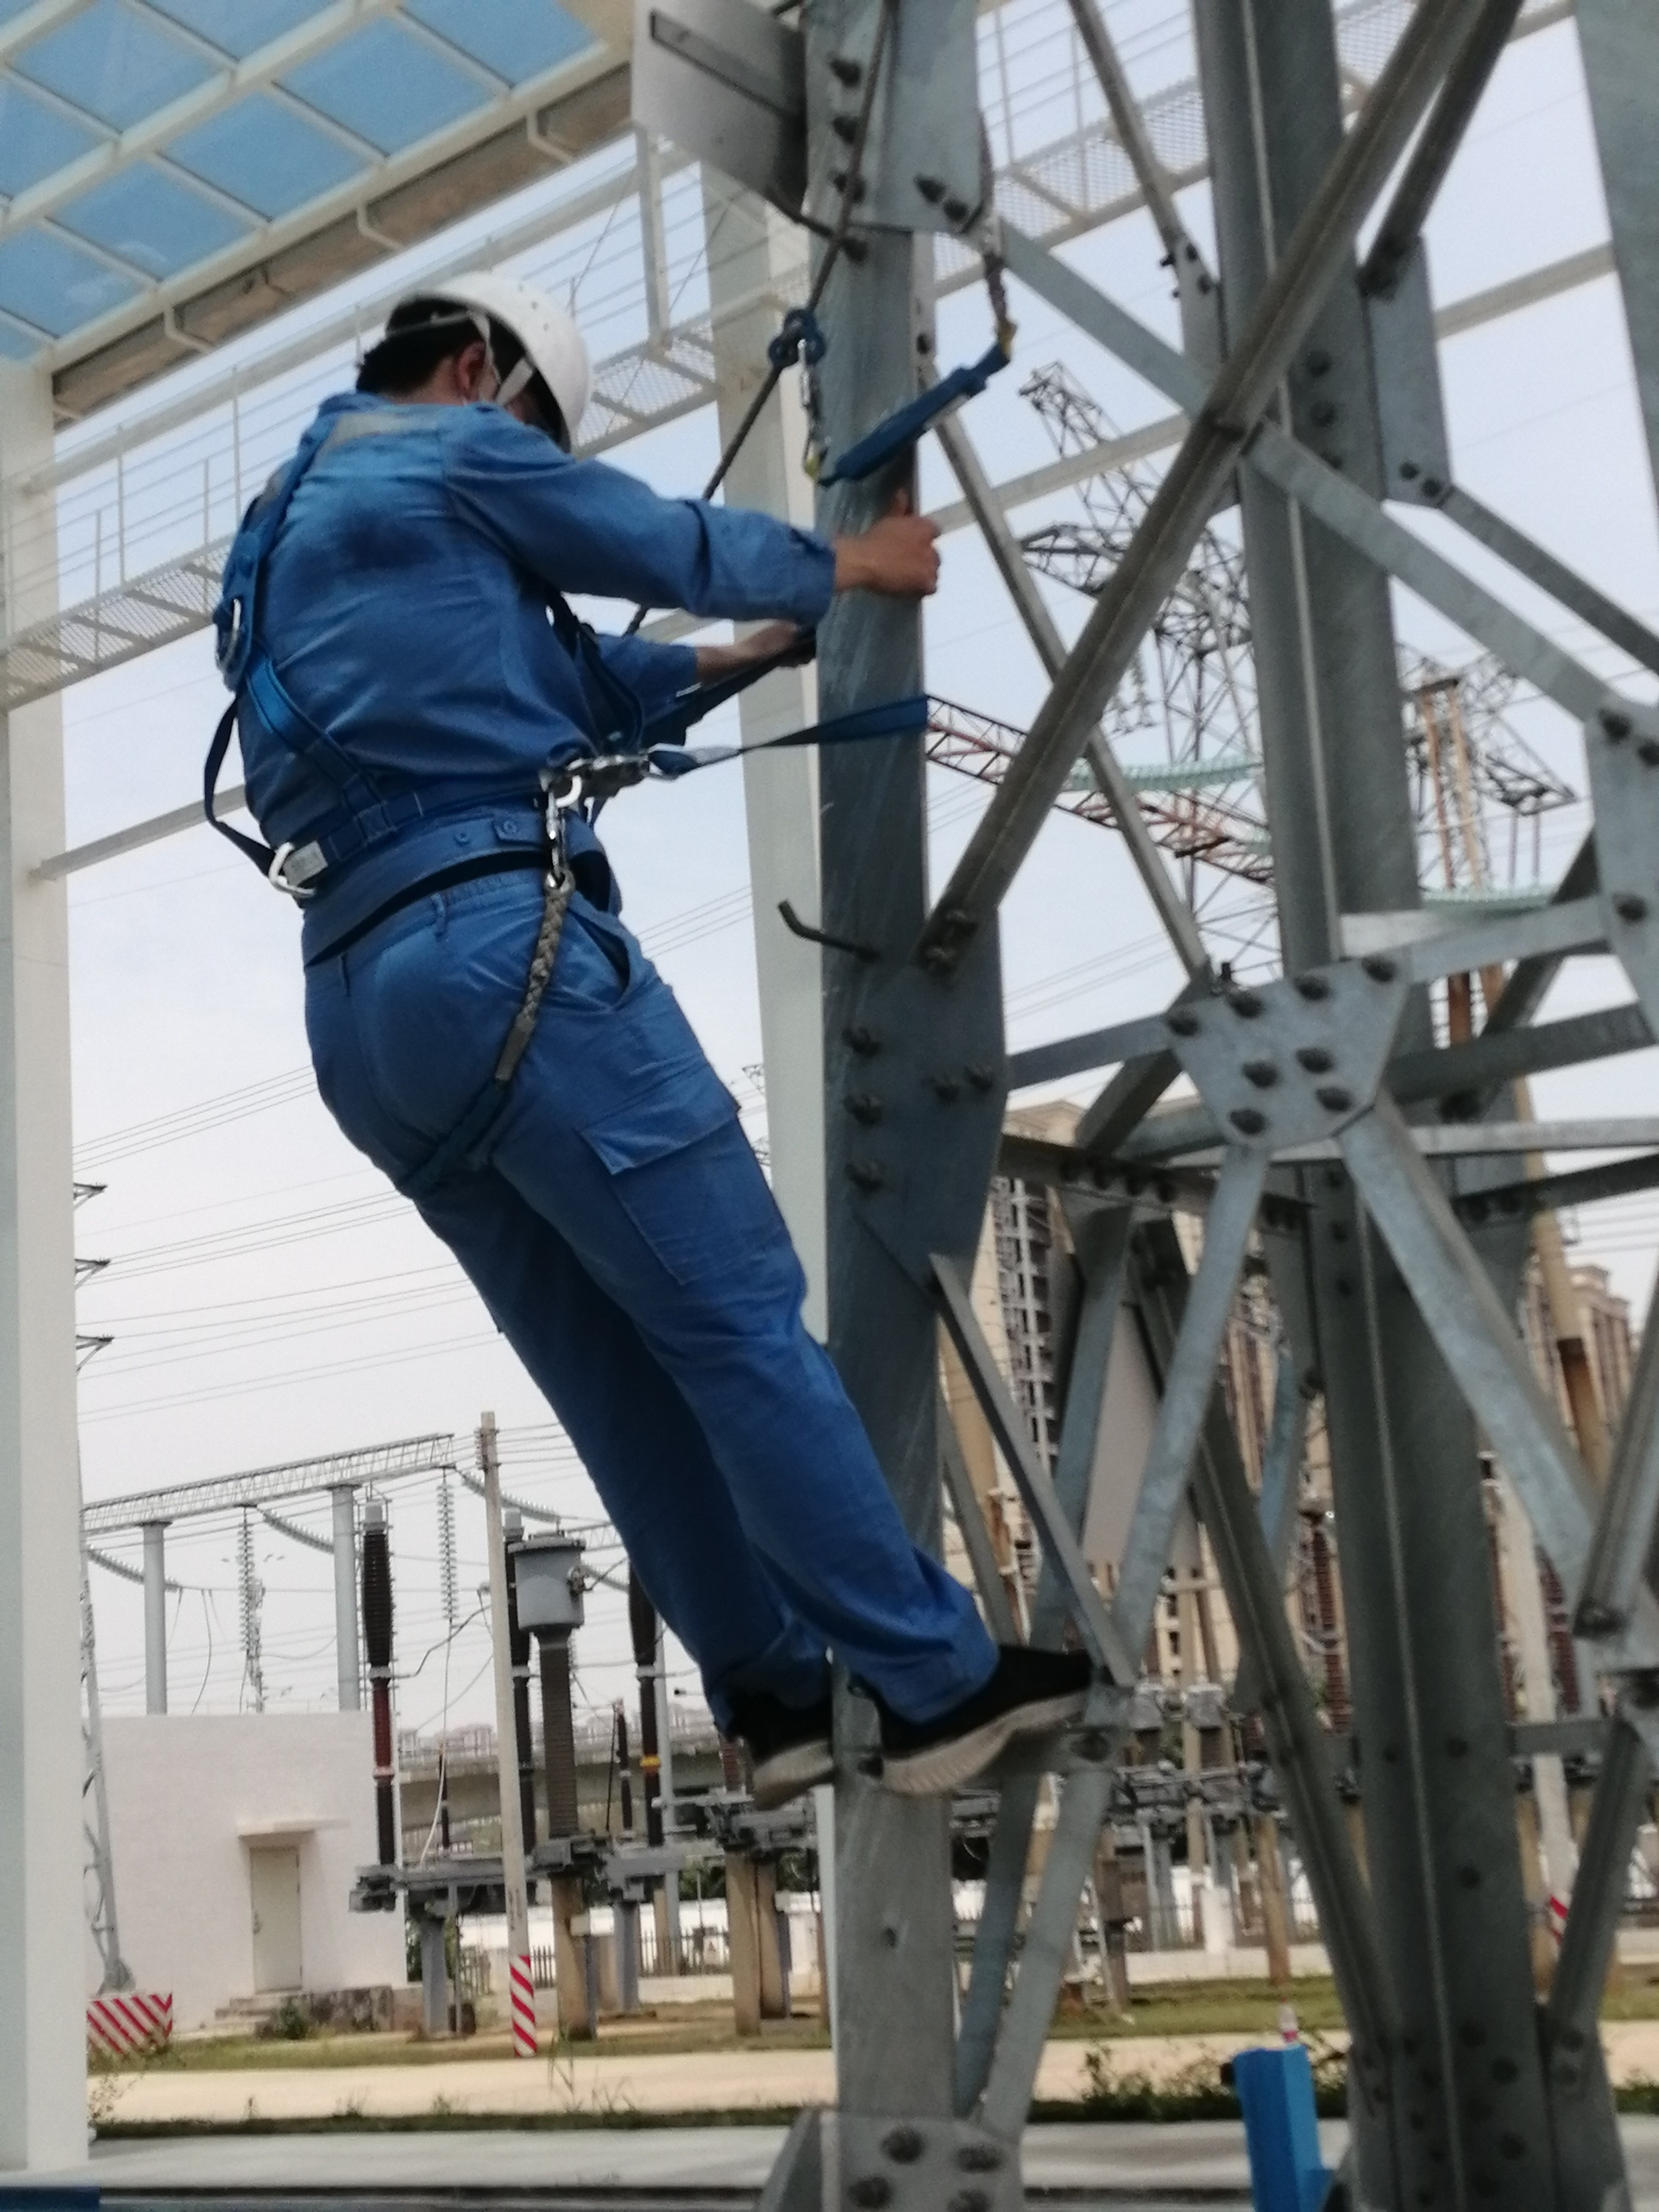downsuit: (281, 895, 979, 1723)
upsuit: (207, 402, 842, 862)
